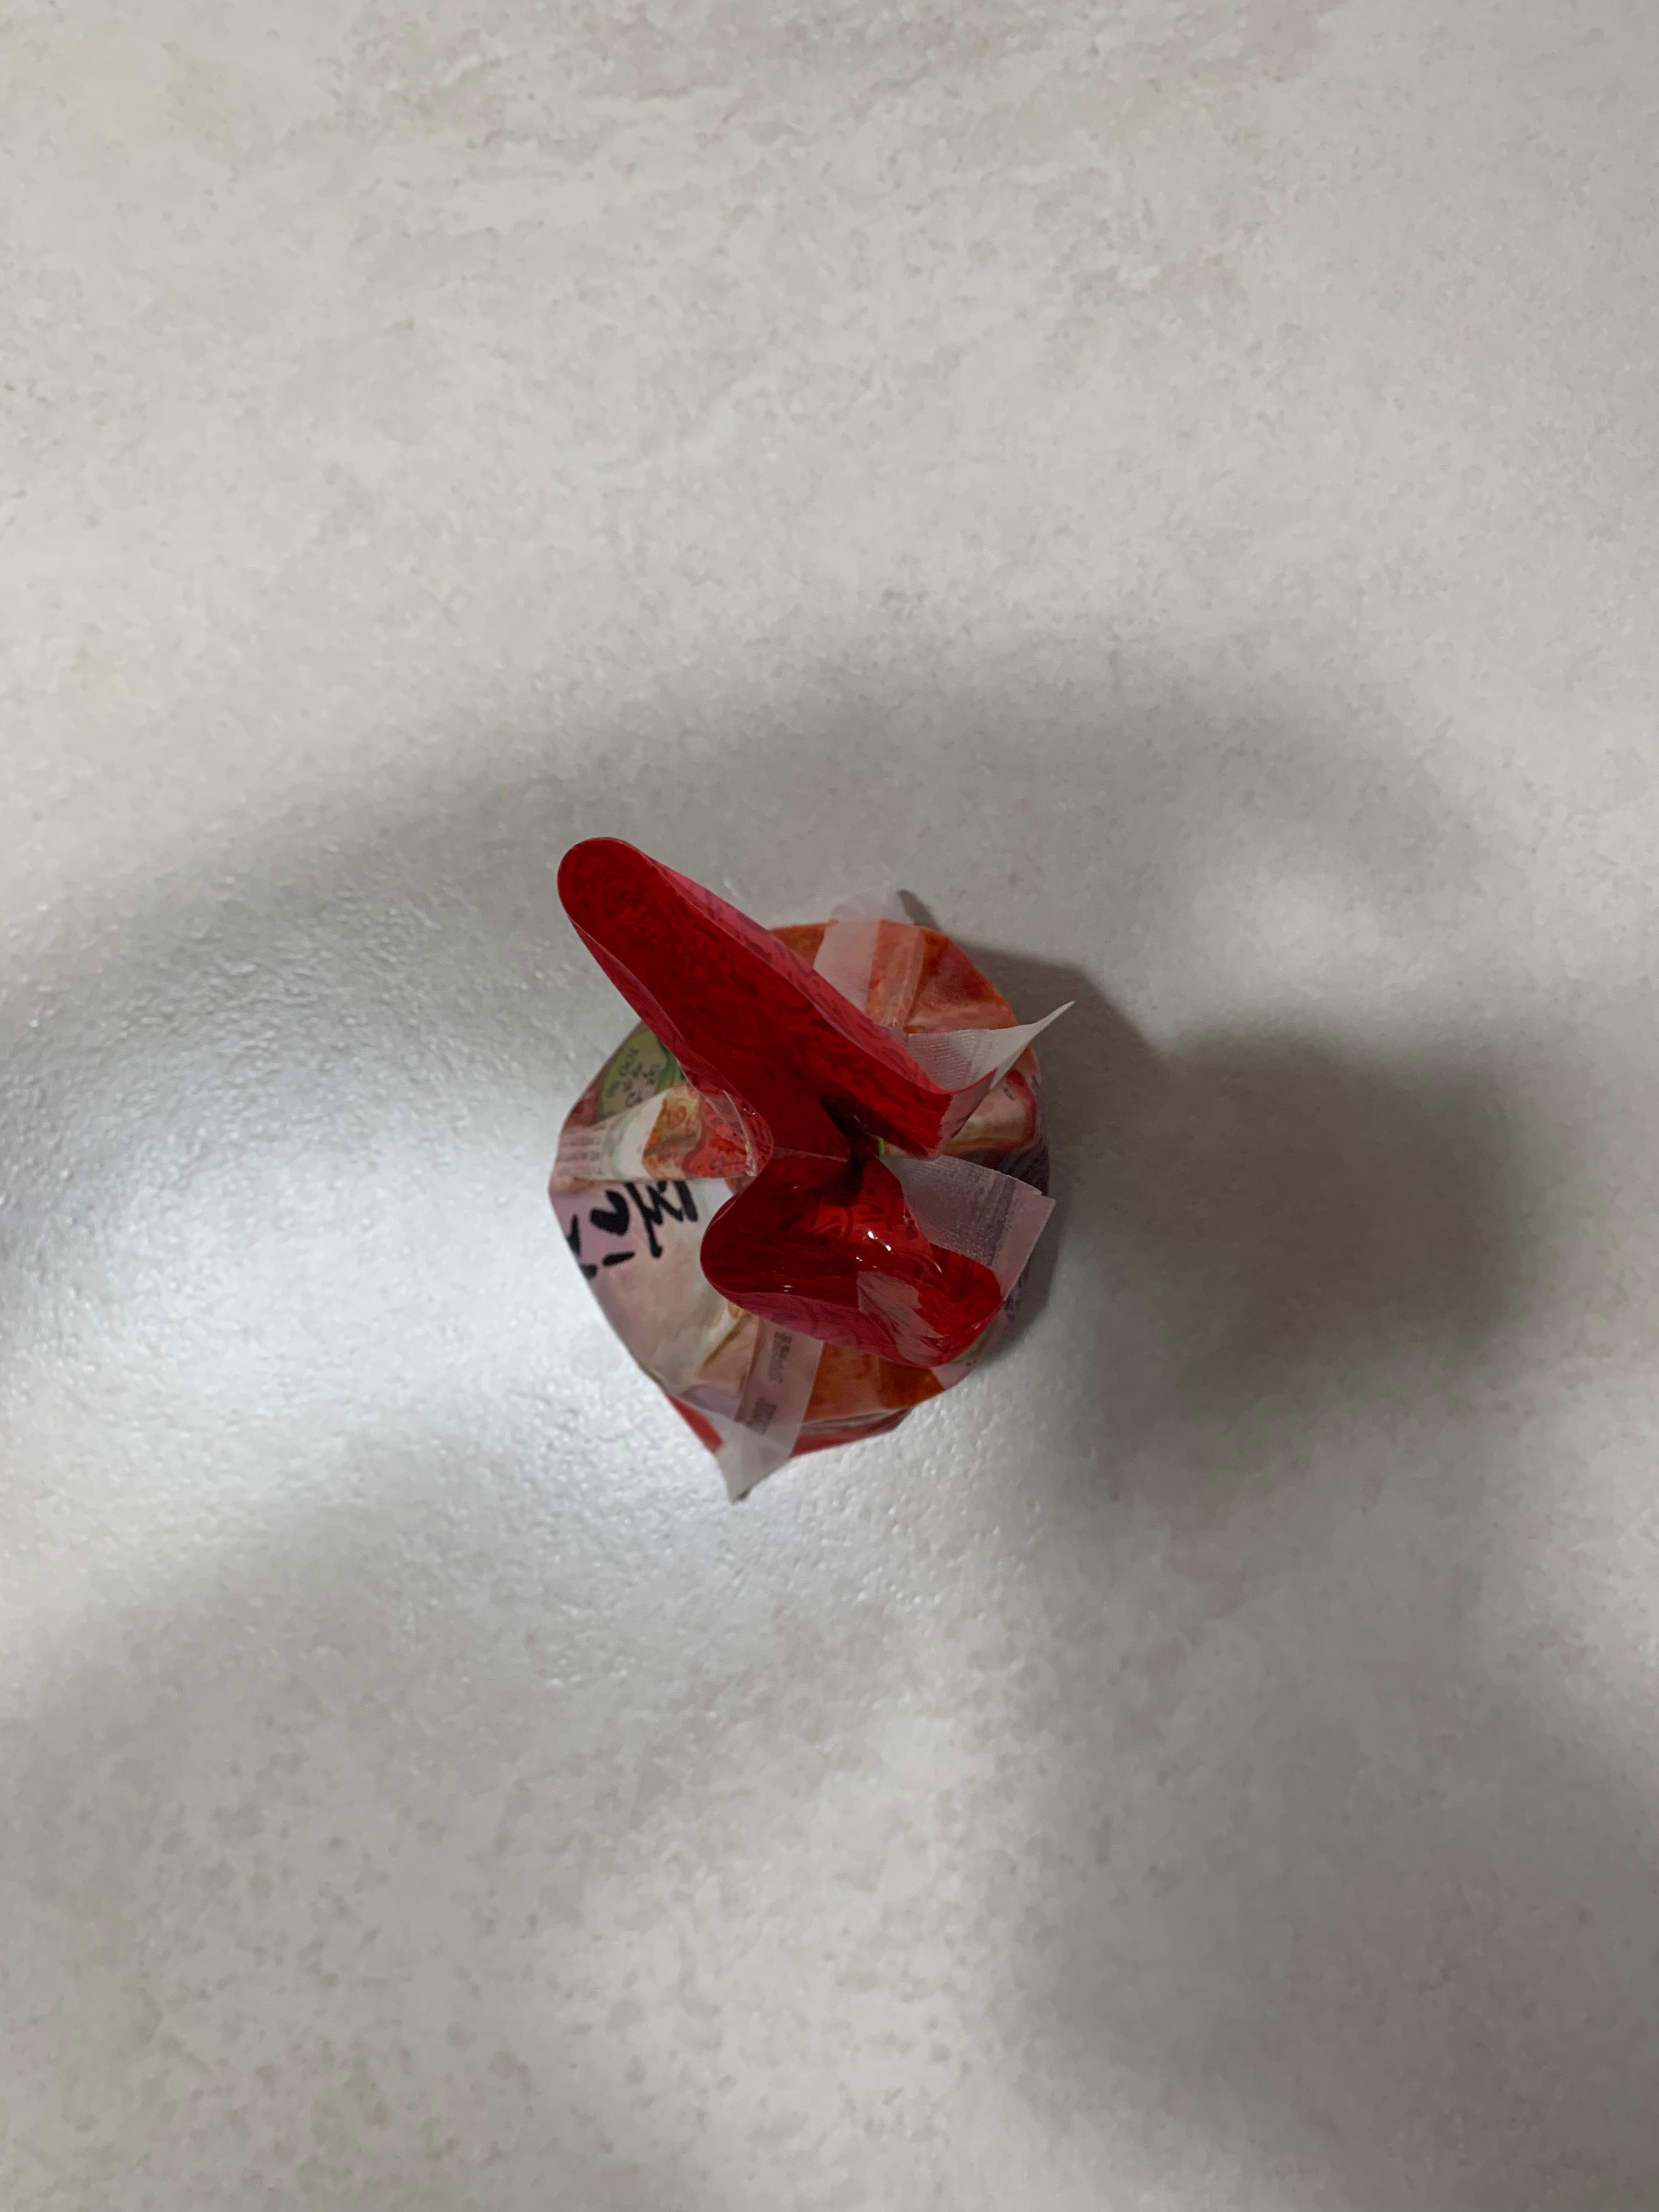kimchi: (547, 840, 1068, 1479)
